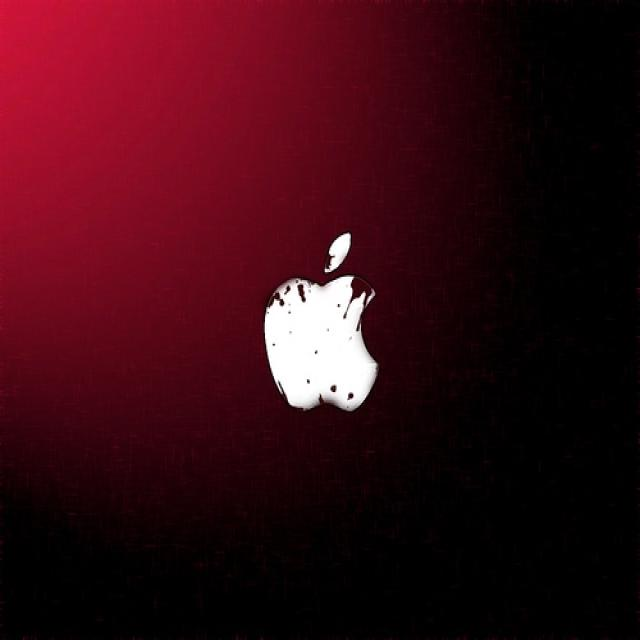apple: (260, 228, 385, 417)
